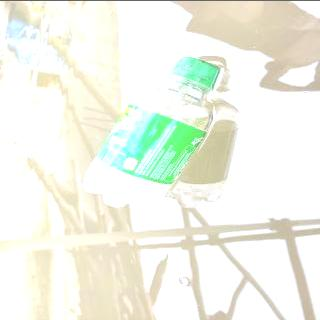bottle: (79, 54, 224, 210)
